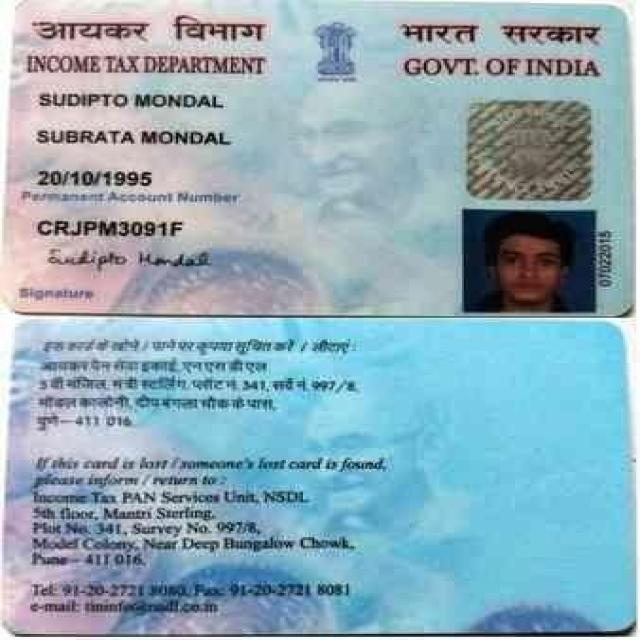pan_card: (9, 323, 628, 635), (9, 5, 629, 316)
